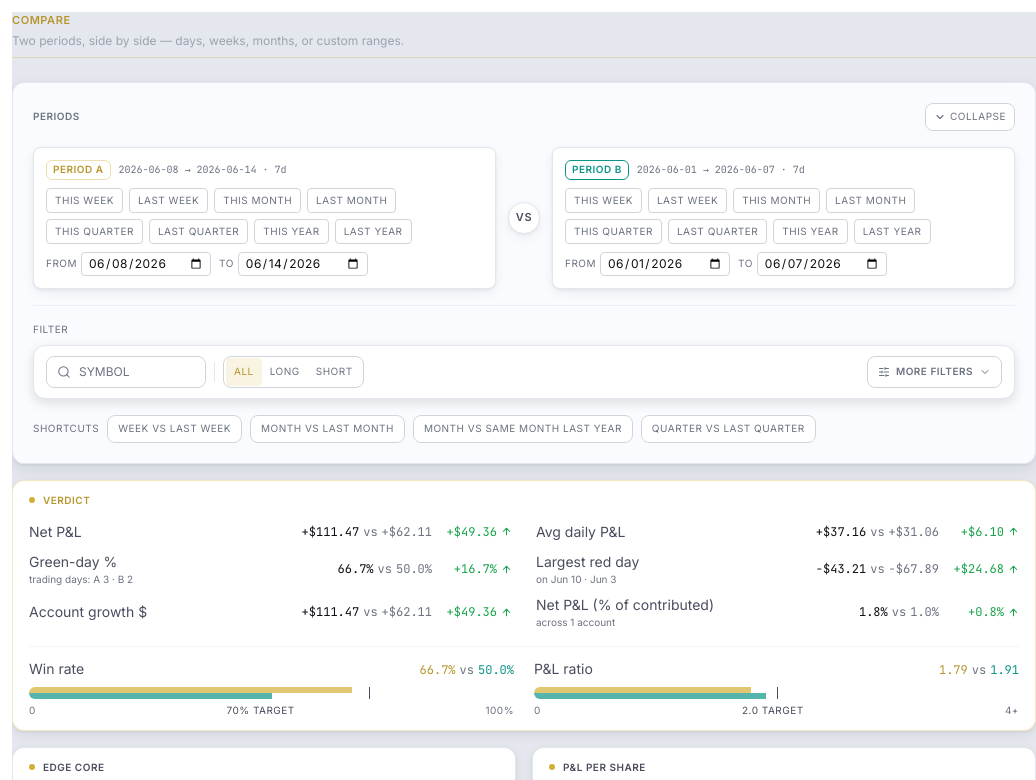
Test: AnalyticsCompareTab — mistake filter (Dave #14 A) › (1) THE RECOVERY: picking a mistake narrows BOTH periods through computePeriodComparison
This screenshot has width=1036, height=780.
Click the button "More filters" at (934, 372), box [867,356,1002,388]
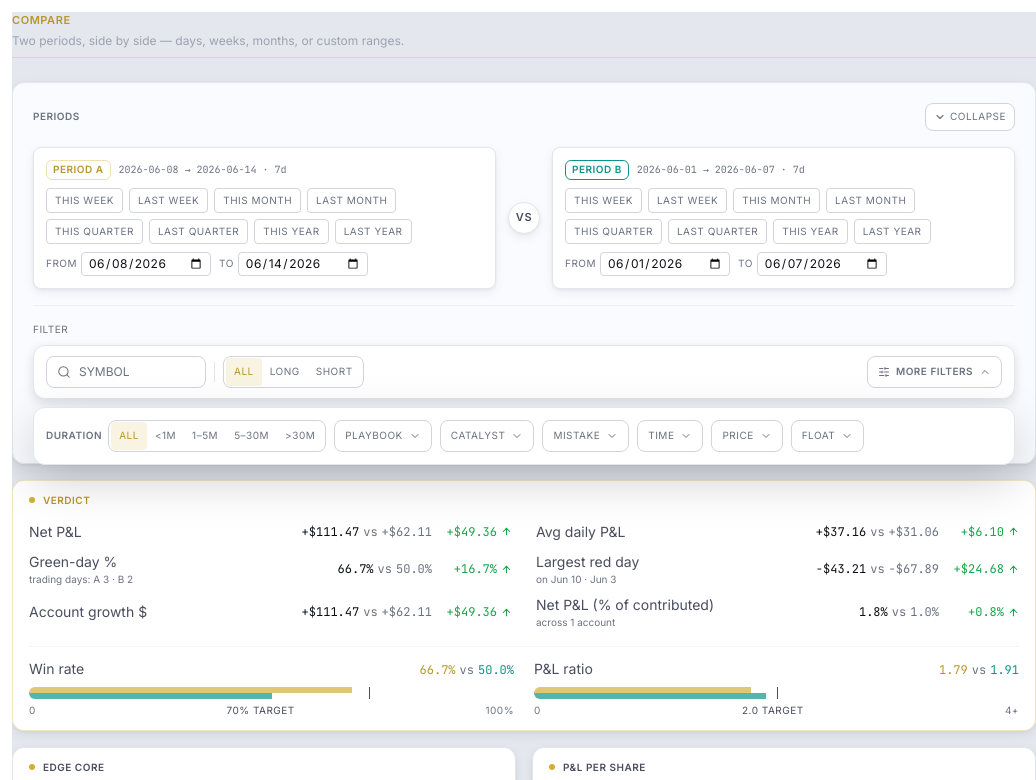
Click the button "Mistake" at (586, 436), box [542,420,629,452]
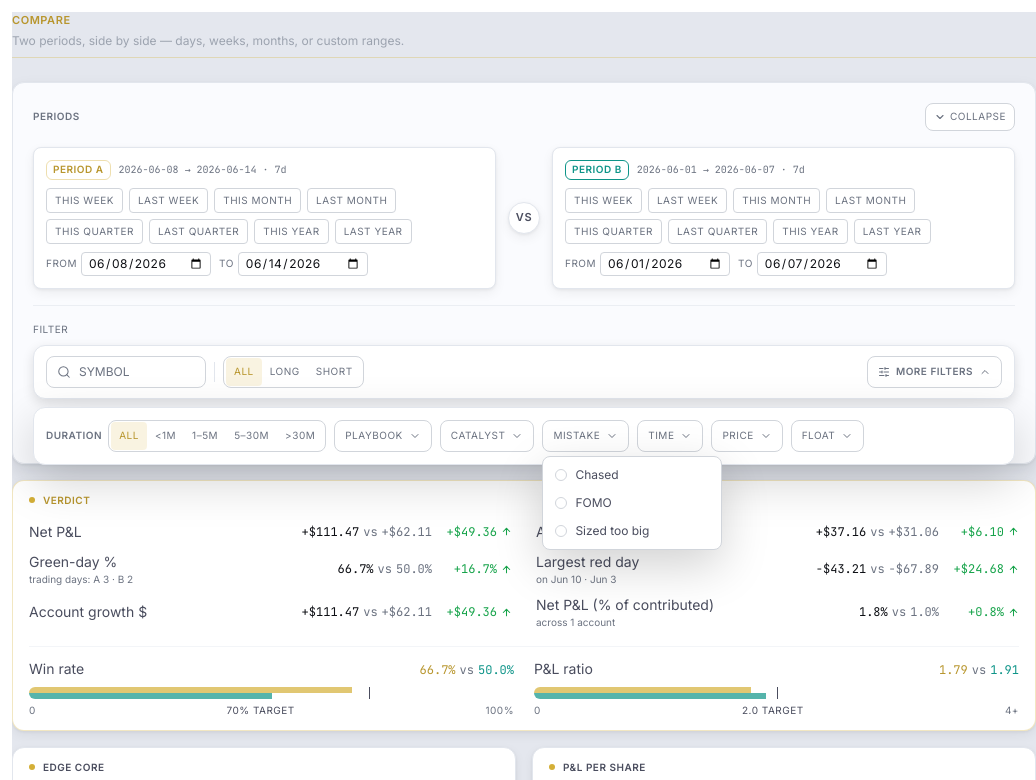
Click the button "FOMO" at (632, 502), box [547,488,717,516]
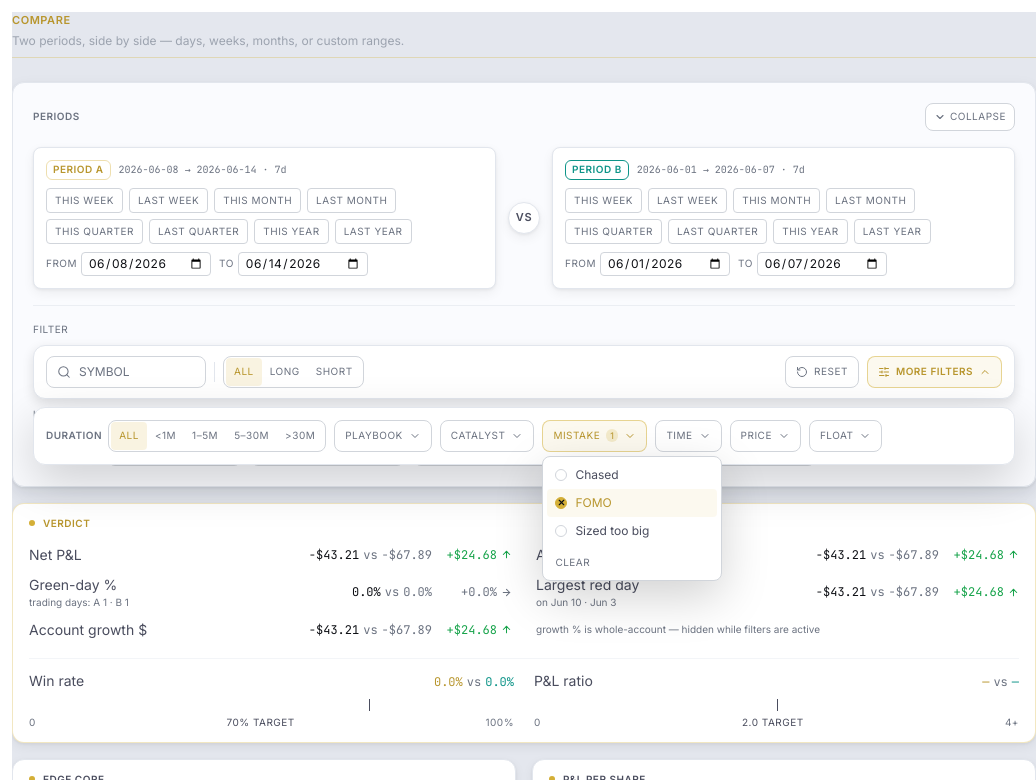
Expected: the text "+$111.47" is not shown
Expected: the text "+$62.11" is not shown
